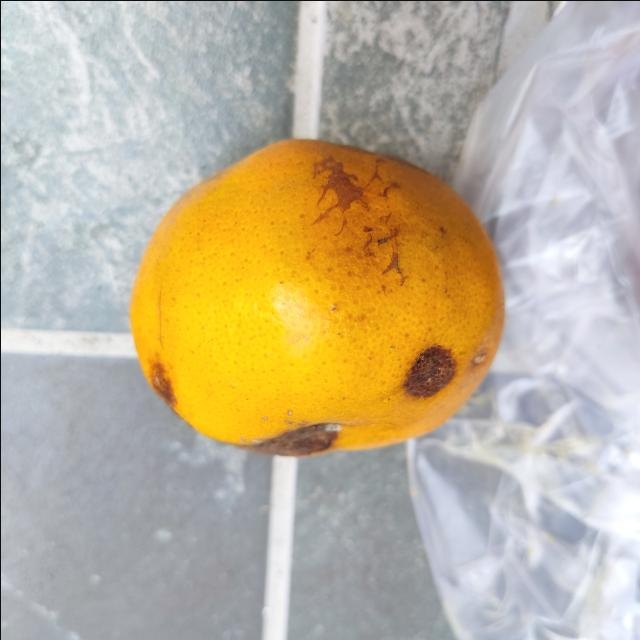agrume: (118, 133, 506, 459)
